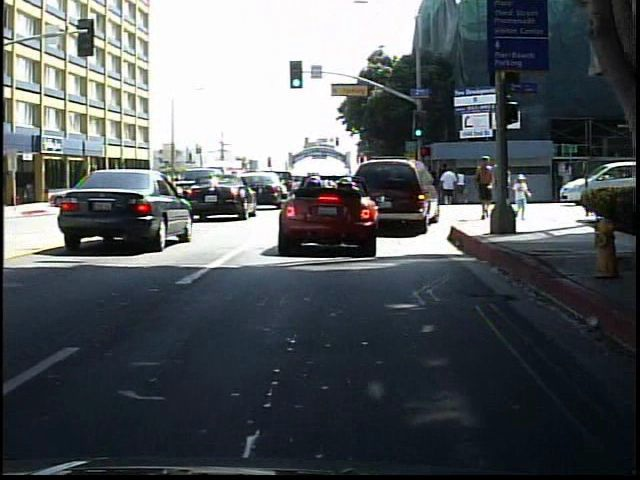person: (473, 154, 496, 224), (510, 173, 530, 219), (117, 174, 135, 204)
